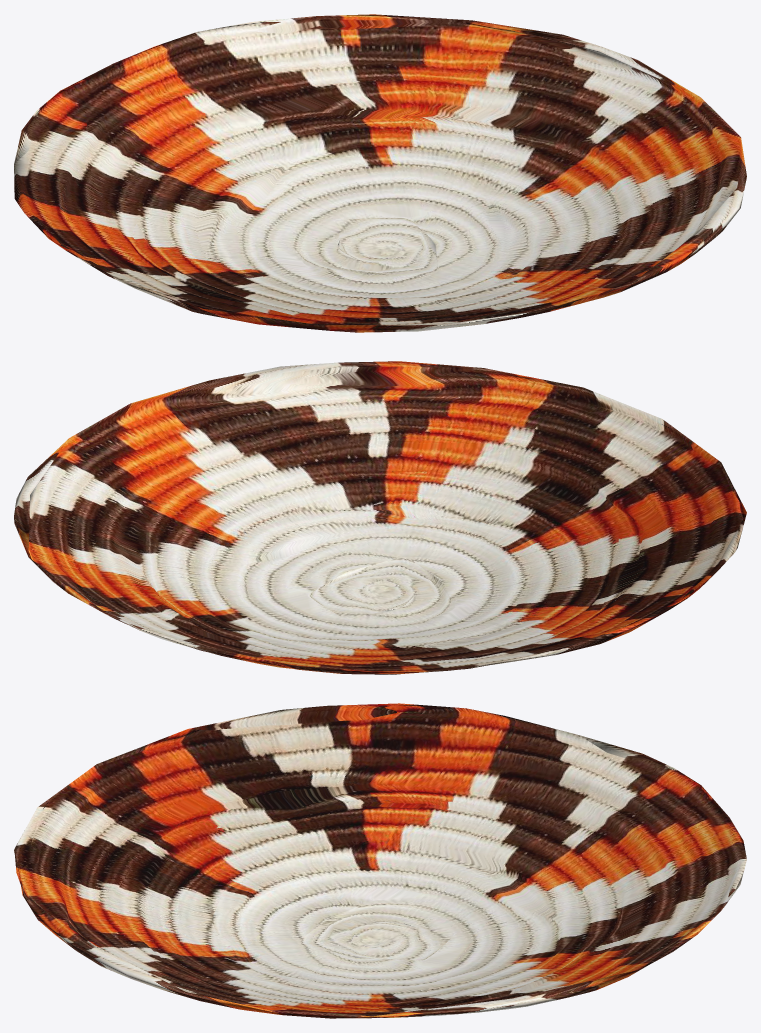
File: sefed-8-.002.fbx
3 renders of one model, top to bottom at view 1: azimuth 30°, elevation 25°; view 2: azimuth 150°, elevation 25°; view 3: azimuth 270°, elevation 25°, orthographic.
Visible parts, largest first — view 1: sefed-8-.002; view 2: sefed-8-.002; view 3: sefed-8-.002.
Part boxes in pixels (bbox=[...]): sefed-8-.002: bbox=[14, 14, 746, 332]; sefed-8-.002: bbox=[14, 361, 746, 674]; sefed-8-.002: bbox=[14, 703, 746, 1018].
Size of the model in its own units: 37.68 by 4.9 by 37.77.
Materials: 1 (1 with a texture image).
